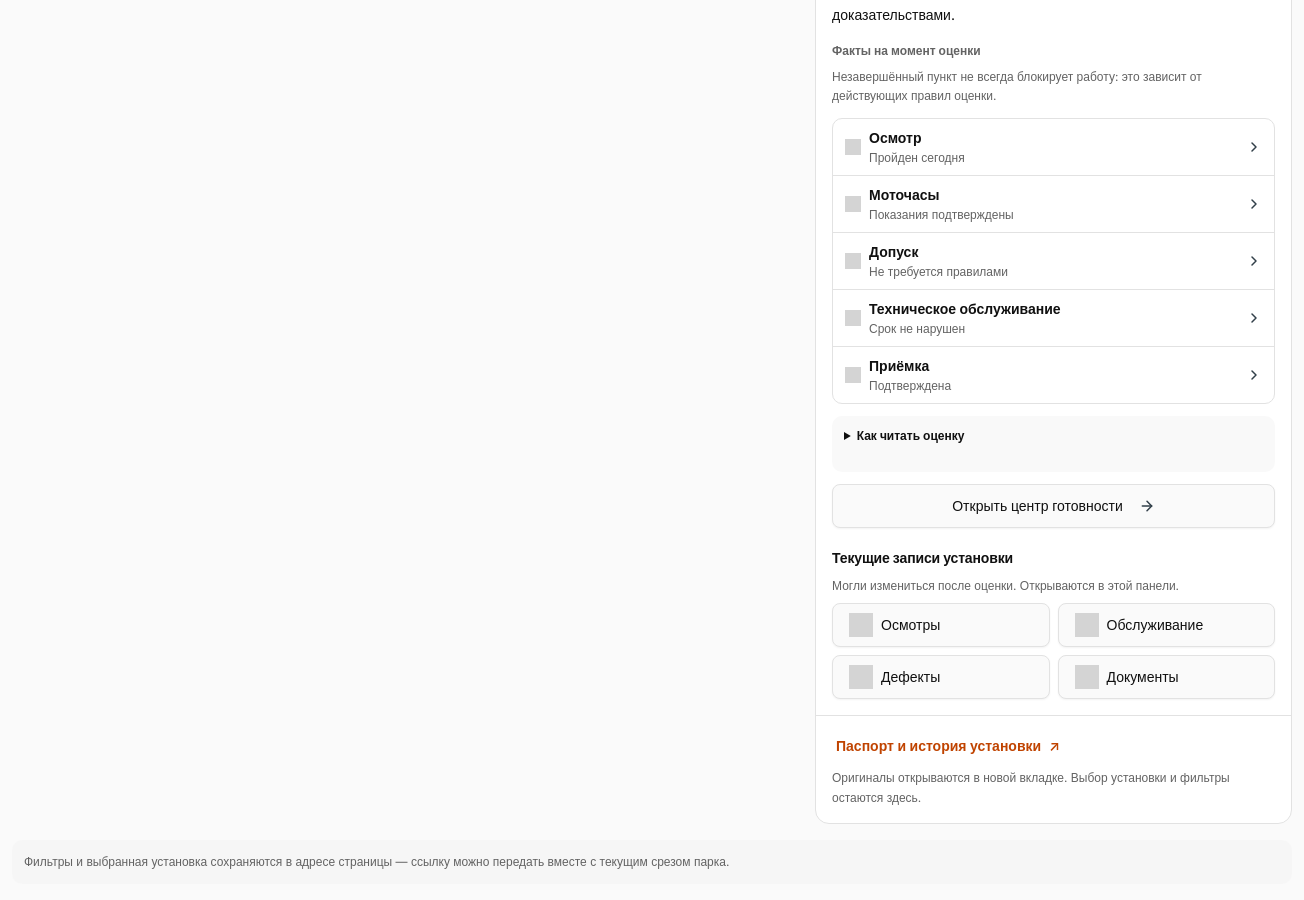
Test: Fleet evidence interactions › shows the card load failure reason for the selected machine
(page scrolled)
Click the button "Документы" at (1166, 677), box left=1058, top=655, right=1275, bottom=699
(page scrolled)
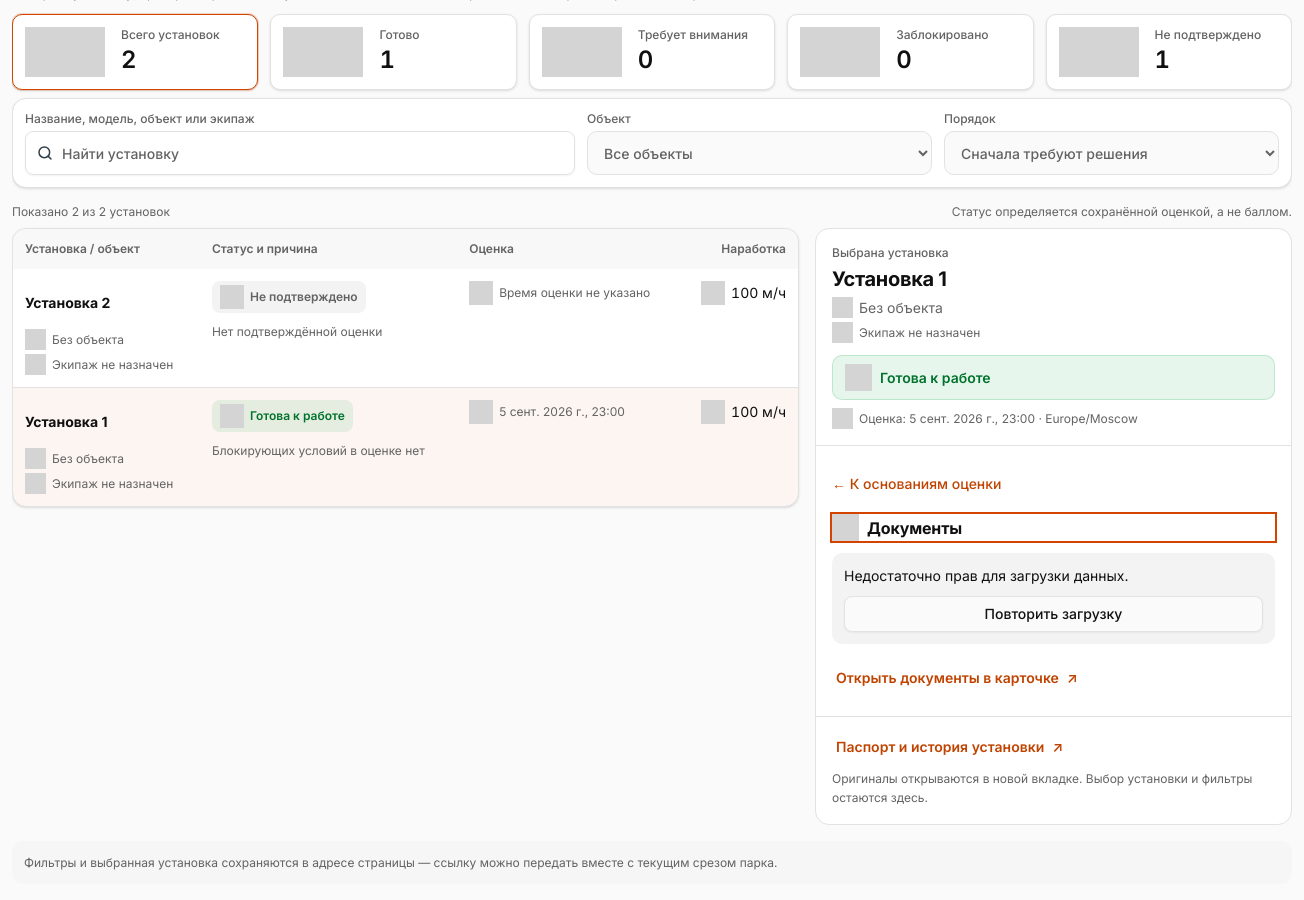
Check: the text "Недостаточно прав для загрузки данных." is shown, box left=844, top=567, right=1128, bottom=584
